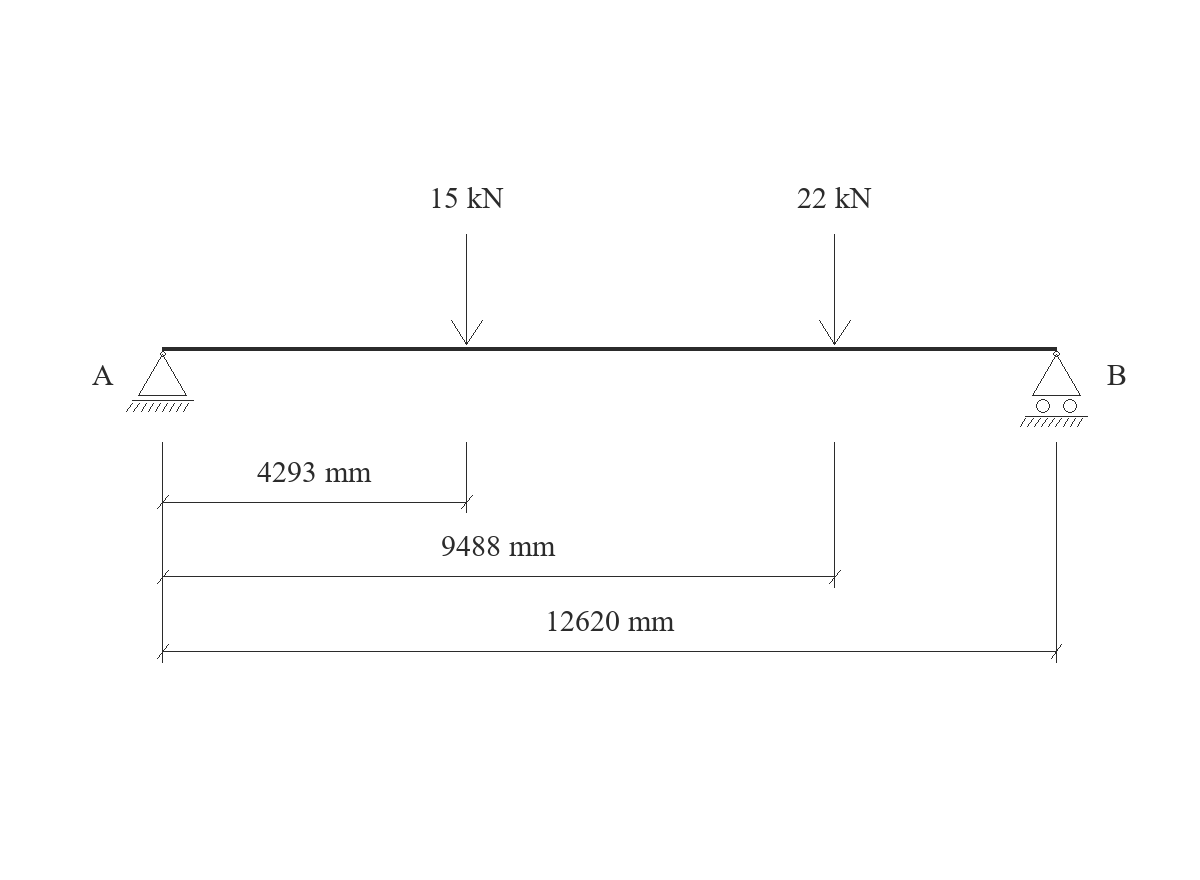pin_support: (126, 351, 194, 412)
point_load: (451, 234, 483, 345), (819, 234, 851, 345)
roller_support: (1020, 351, 1088, 427)
